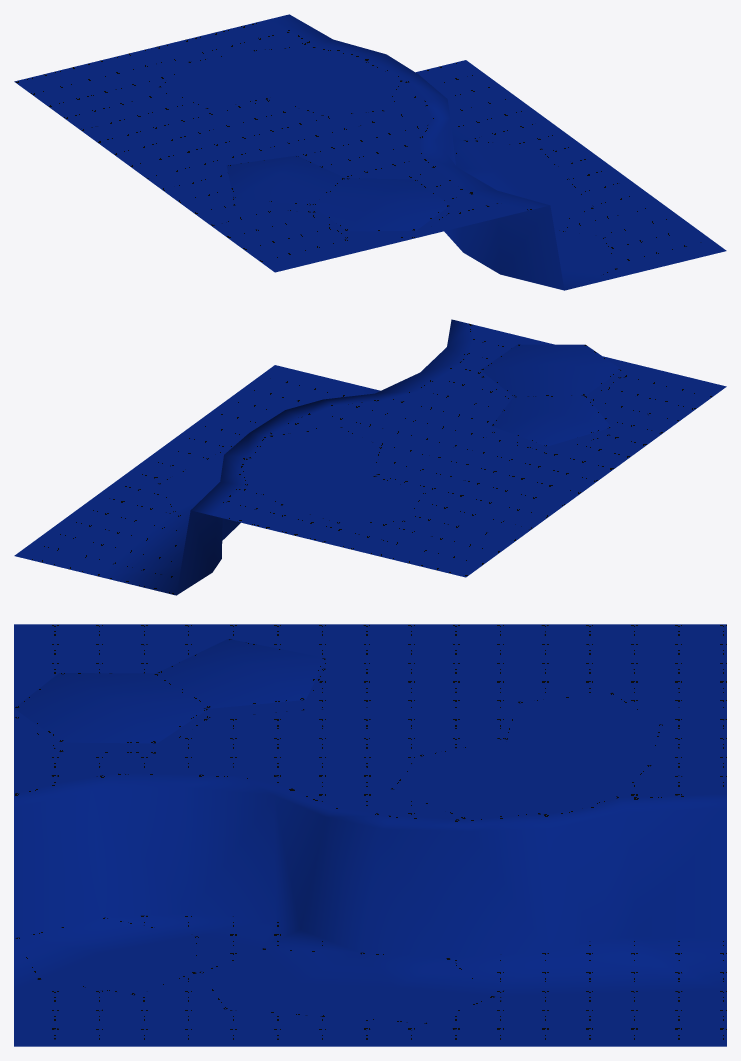
File: GRD_S_C3_1.fbx
3 renders of one model, top to bottom at view 1: azimuth 30°, elevation 25°; view 2: azimuth 150°, elevation 25°; view 3: azimuth 270°, elevation 25°, orthographic. The views are drawn at different scales.
Visible parts, largest first — view 1: material_00022000, material_C0042000, material_00032000, material_C0012000, material_C0052000; view 2: material_00022000, material_C0042000, material_C0012000, material_00032000, material_C0052000; view 3: material_00022000, material_00032000, material_C0042000, material_C0012000, material_C0052000.
Part boxes in pixels (x1=…): material_00022000: x1=14, y1=19, x2=726, y2=290; material_C0042000: x1=158, y1=46, x2=618, y2=290; material_00032000: x1=268, y1=14, x2=564, y2=290; material_C0012000: x1=226, y1=155, x2=449, y2=231; material_C0052000: x1=226, y1=172, x2=449, y2=238; material_00022000: x1=14, y1=324, x2=726, y2=595; material_C0042000: x1=157, y1=427, x2=425, y2=523; material_C0012000: x1=481, y1=344, x2=621, y2=446; material_00032000: x1=176, y1=319, x2=472, y2=595; material_C0052000: x1=480, y1=373, x2=621, y2=453; material_00022000: x1=14, y1=624, x2=726, y2=1046; material_00032000: x1=14, y1=772, x2=726, y2=957; material_C0042000: x1=14, y1=692, x2=662, y2=1024; material_C0012000: x1=14, y1=639, x2=325, y2=743; material_C0052000: x1=14, y1=667, x2=325, y2=753.
Bounding box in the file's own units: 12800 × 2800 × 12800.
